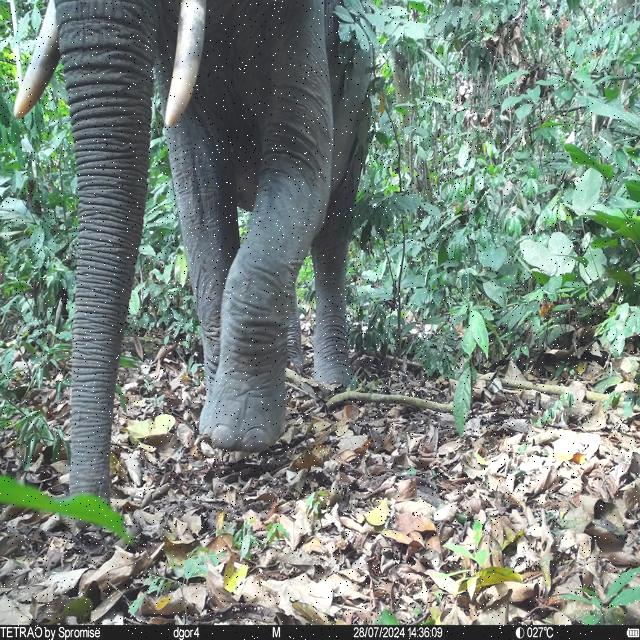elephant: (12, 43, 376, 530)
tusk: (13, 44, 61, 120), (165, 44, 205, 128)
